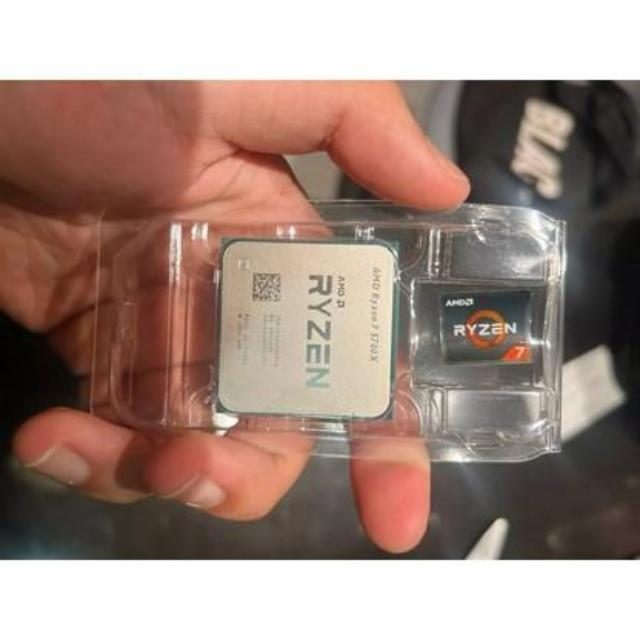CPU: (216, 241, 394, 419)
